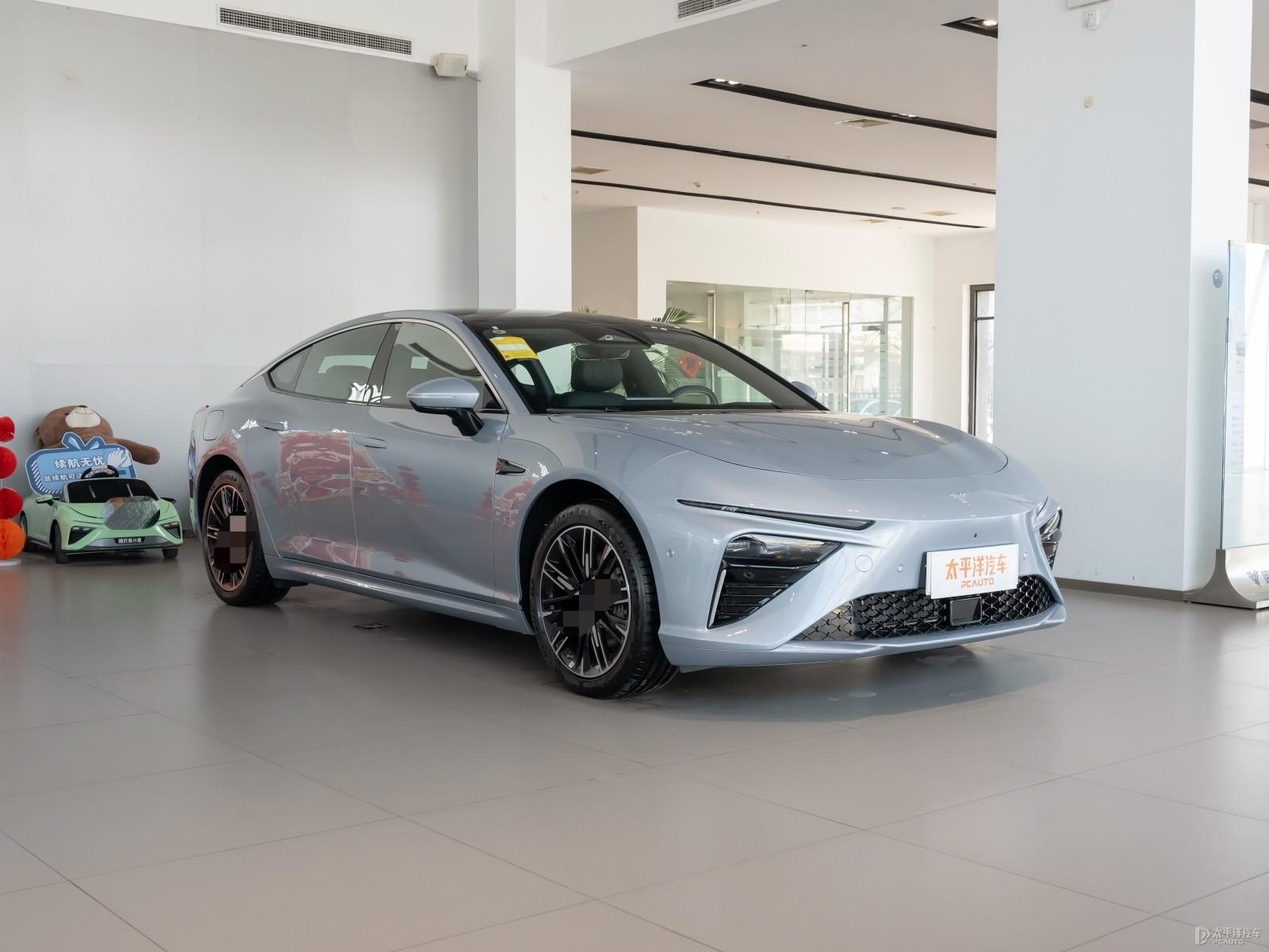NETA: (948, 492, 971, 509)
